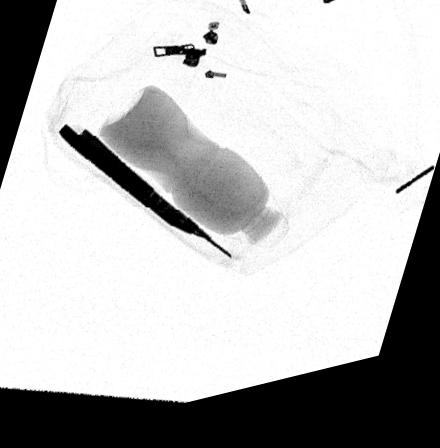Knife: (58, 127, 234, 270)
